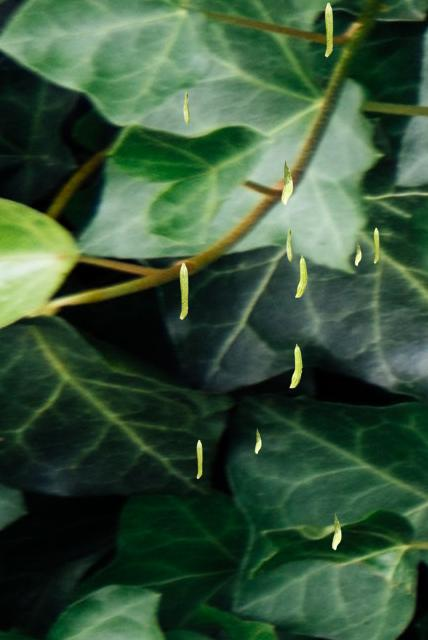ampalaya: (289, 343, 302, 388), (281, 158, 293, 205), (294, 255, 307, 298), (179, 262, 188, 319), (324, 2, 333, 57), (331, 512, 341, 550), (196, 439, 202, 479), (373, 227, 379, 263), (286, 228, 292, 261), (183, 91, 189, 124), (354, 239, 361, 266), (254, 427, 261, 454)
